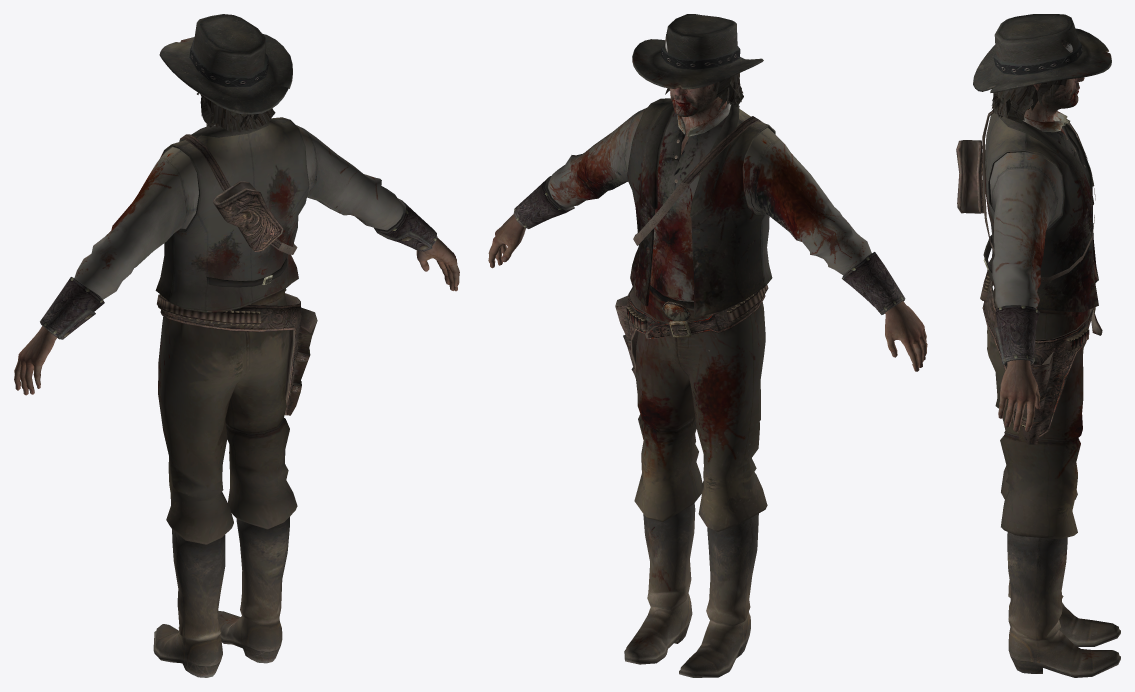
The model's file is proyecto2.glb.
3 renders of one model, left to right at view 1: azimuth 30°, elevation 25°; view 2: azimuth 150°, elevation 25°; view 3: azimuth 270°, elevation 25°, orthographic.
Parts seen in each view (by area): view 1: object14_mat14_0, object13_mat13_0, object16_mat16_0, object15_mat15_0, object1.001_mat1.002_0, object6_mat6_0, object17_mat17_0, object11_mat11_0, object2.001_mat2.002_0; view 2: object13_mat13_0, object14_mat14_0, object16_mat16_0, object15_mat15_0, object1.001_mat1.002_0, object17_mat17_0, object9_mat9_0, object6_mat6_0, object2.001_mat2.002_0, object11_mat11_0; view 3: object13_mat13_0, object14_mat14_0, object16_mat16_0, object15_mat15_0, object1.001_mat1.002_0, object6_mat6_0, object17_mat17_0, object11_mat11_0, object9_mat9_0, object2.001_mat2.002_0.
Part boxes in pixels (left/top/right/bottom): object14_mat14_0: left=74, top=119, right=403, bottom=312; object13_mat13_0: left=155, top=117, right=297, bottom=544; object16_mat16_0: left=153, top=289, right=289, bottom=677; object15_mat15_0: left=40, top=198, right=437, bottom=415; object1.001_mat1.002_0: left=159, top=14, right=292, bottom=114; object6_mat6_0: left=179, top=134, right=297, bottom=254; object17_mat17_0: left=14, top=237, right=459, bottom=395; object11_mat11_0: left=197, top=93, right=275, bottom=132; object2.001_mat2.002_0: left=189, top=39, right=268, bottom=87; object13_mat13_0: left=626, top=102, right=767, bottom=531; object14_mat14_0: left=548, top=98, right=871, bottom=301; object16_mat16_0: left=624, top=290, right=758, bottom=677; object15_mat15_0: left=513, top=176, right=905, bottom=378; object1.001_mat1.002_0: left=632, top=14, right=763, bottom=89; object17_mat17_0: left=488, top=214, right=927, bottom=371; object9_mat9_0: left=669, top=83, right=726, bottom=154; object6_mat6_0: left=633, top=116, right=763, bottom=245; object2.001_mat2.002_0: left=660, top=45, right=740, bottom=69; object11_mat11_0: left=665, top=73, right=743, bottom=111; object13_mat13_0: left=983, top=111, right=1098, bottom=539; object14_mat14_0: left=985, top=110, right=1097, bottom=308; object16_mat16_0: left=1004, top=309, right=1120, bottom=677; object15_mat15_0: left=980, top=272, right=1102, bottom=444; object1.001_mat1.002_0: left=973, top=14, right=1111, bottom=92; object6_mat6_0: left=956, top=110, right=1095, bottom=281; object17_mat17_0: left=998, top=360, right=1040, bottom=431; object11_mat11_0: left=991, top=79, right=1067, bottom=123; object9_mat9_0: left=1024, top=77, right=1084, bottom=135; object2.001_mat2.002_0: left=993, top=40, right=1082, bottom=75.
Size of the model in its own units: 1.29 by 1.79 by 0.4233.
Materials: 19 (19 with a texture image).
